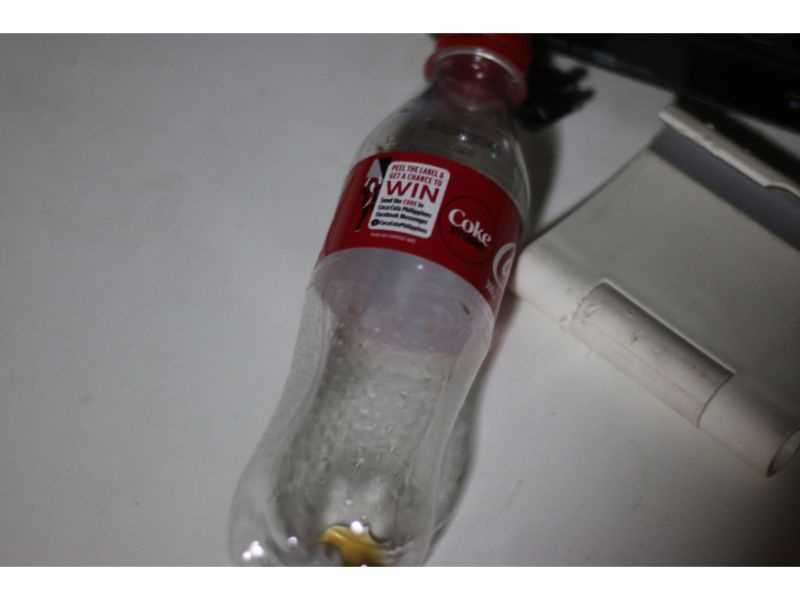PET #1: (212, 34, 538, 566)
